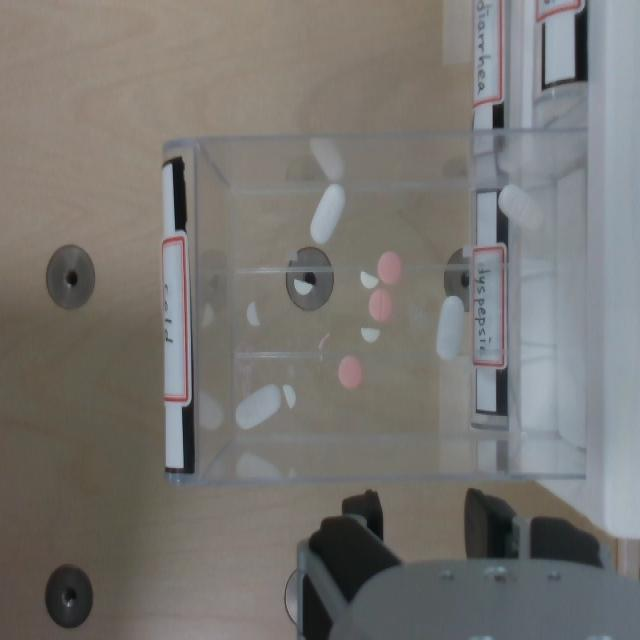amoxicle_tab: (310, 184, 345, 244), (235, 384, 281, 429), (498, 184, 543, 229), (436, 296, 464, 360)
panstar_tab: (377, 251, 402, 284), (338, 355, 362, 388), (368, 288, 392, 321)
sudafed_tab: (360, 327, 380, 343), (246, 301, 259, 325), (360, 271, 378, 288), (294, 279, 313, 295), (283, 384, 295, 408)
